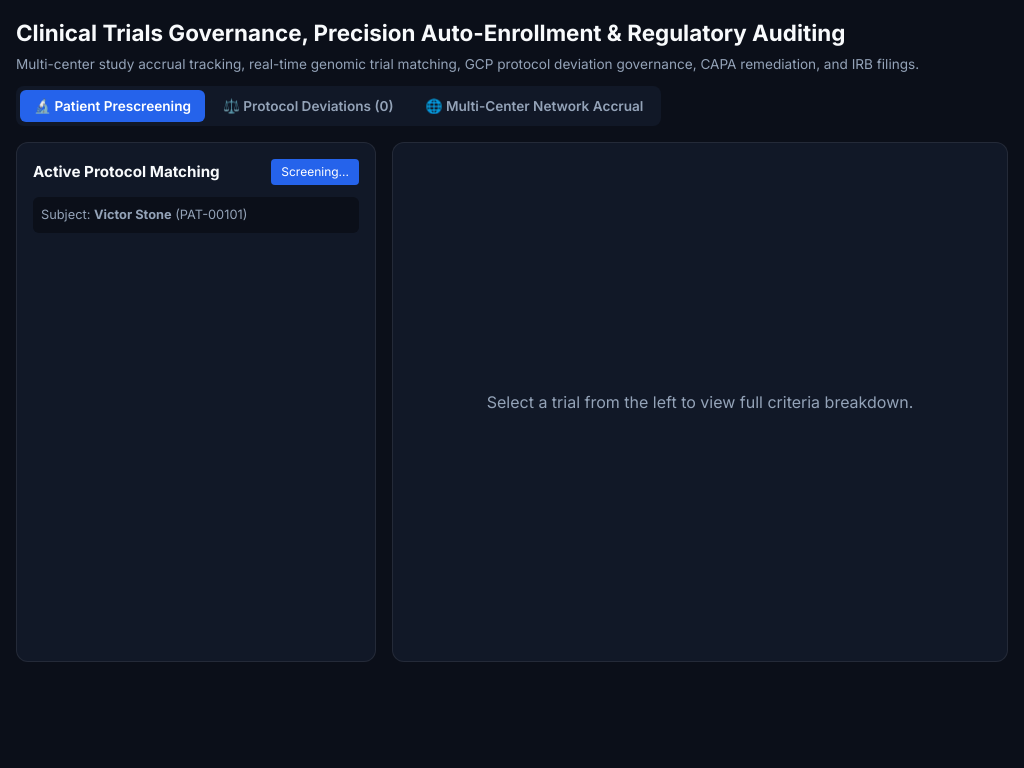
Test case: TrialsGovernanceWorkspace Component › switches to Multi-Center Network Accrual tab and verifies sites
Click the button "🌐 Multi-Center Network Accrual" at (534, 106), box [412,90,657,122]
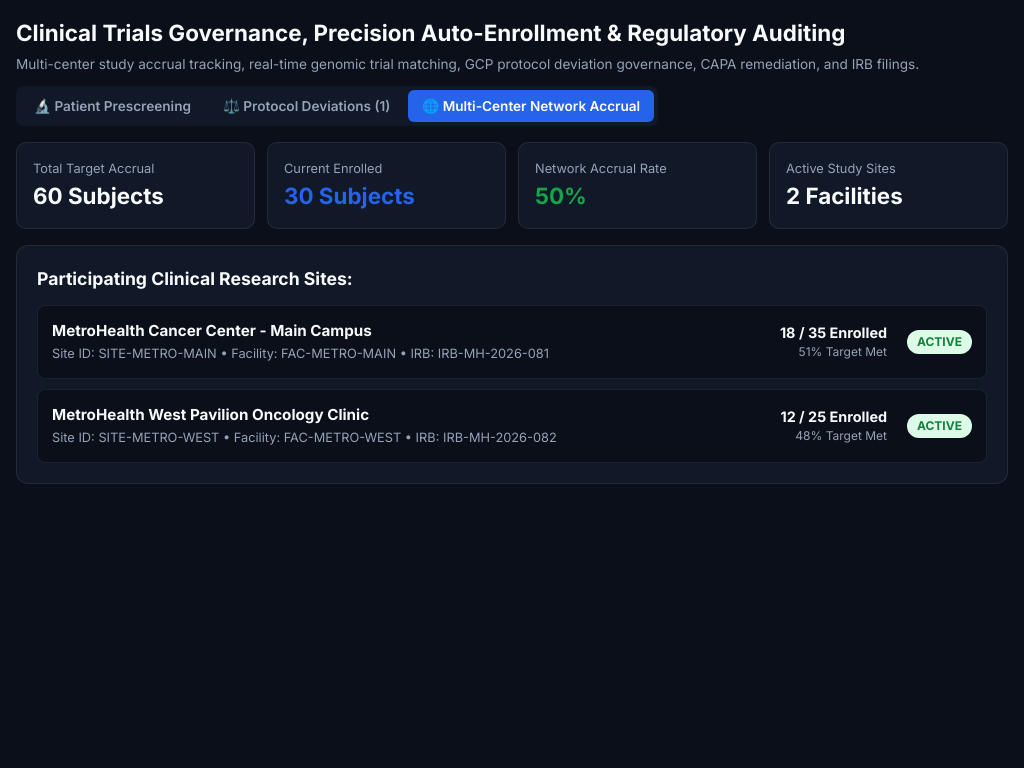
Expected: the text "MetroHealth Cancer Center - Main Campus" is shown, [52,321,372,340]
Expected: the text "MetroHealth West Pavilion Oncology Clinic" is shown, [52,405,369,424]
Expected: the text "60 Subjects" is shown, [33,182,164,209]
